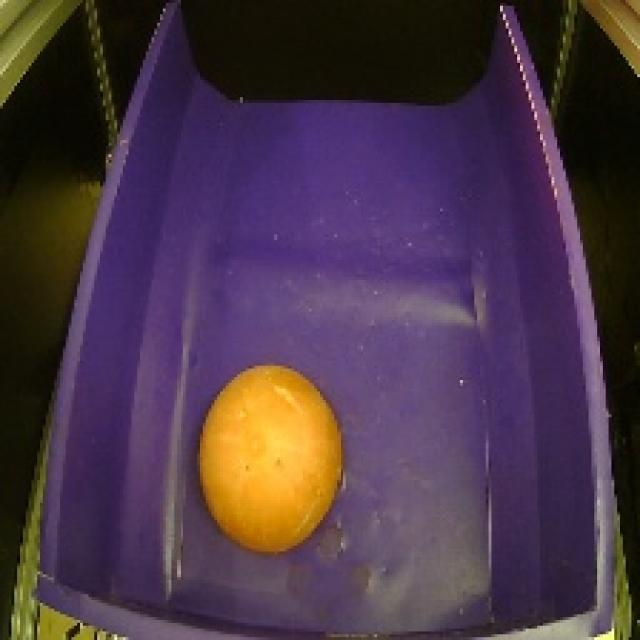carrots: (191, 355, 347, 564)
